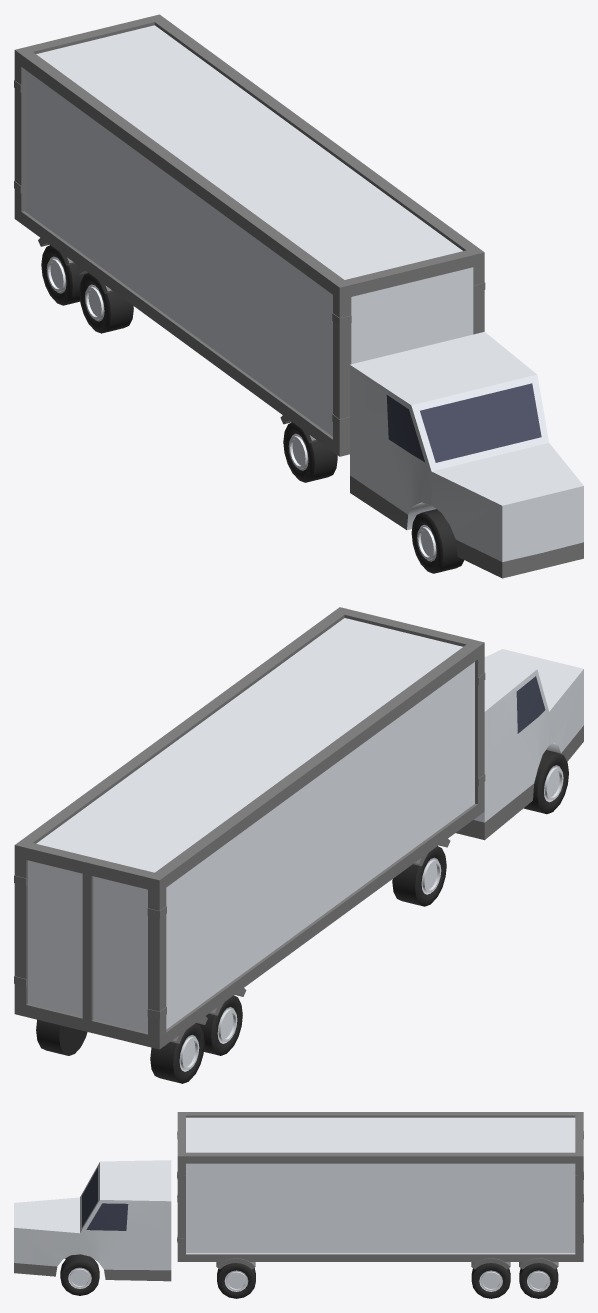
File: truck.DAE
3 views of the same model, one above another, from view 1: azimuth 30°, elevation 25°; view 2: azimuth 150°, elevation 25°; view 3: azimuth 270°, elevation 25° (orthographic). The views are drawn at different scales.
Parts seen in each view (by area): view 1: Box001; view 2: Box001; view 3: Box001.
Part boxes in pixels (x1,y1,x2,y2): Box001: (14, 14, 583, 578); Box001: (14, 607, 583, 1083); Box001: (14, 1112, 583, 1298).
Size of the model in its own units: 5.45 by 8.13 by 29.37.
